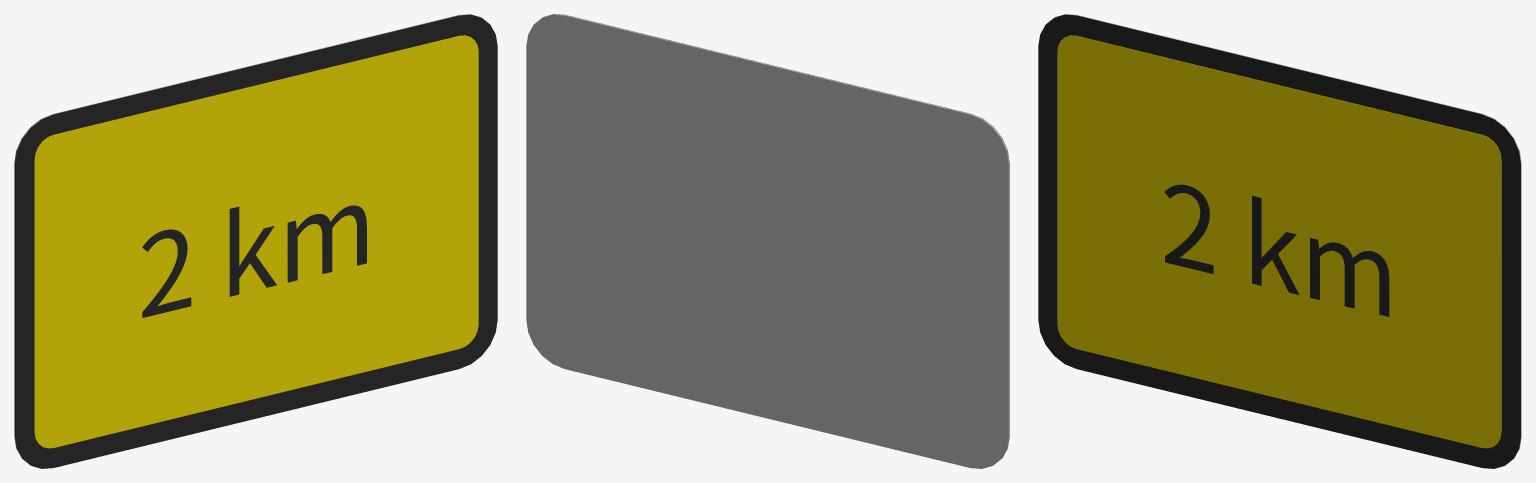
The picture shows the model from 3 angles, left to right: view 1: azimuth 30°, elevation 25°; view 2: azimuth 150°, elevation 25°; view 3: azimuth 330°, elevation 25°; orthographic projection.
Parts seen in each view (by area): view 1: KM2_r01, KM2_r00, KM2_txt02, KM2_dos; view 2: KM2_dos, KM2_r00; view 3: KM2_r01, KM2_r00, KM2_txt02, KM2_dos.
Part boxes in pixels (bbox=[...]): KM2_r01: bbox=[34, 35, 478, 448]; KM2_r00: bbox=[15, 14, 497, 468]; KM2_txt02: bbox=[142, 205, 366, 317]; KM2_dos: bbox=[14, 14, 480, 458]; KM2_dos: bbox=[526, 14, 1009, 468]; KM2_r00: bbox=[552, 14, 1009, 456]; KM2_r01: bbox=[1057, 35, 1501, 448]; KM2_r00: bbox=[1038, 14, 1520, 468]; KM2_txt02: bbox=[1164, 184, 1389, 316]; KM2_dos: bbox=[1055, 14, 1521, 458].
Size of the model in its own units: 0.5 by 0.35 by 0.0025.
